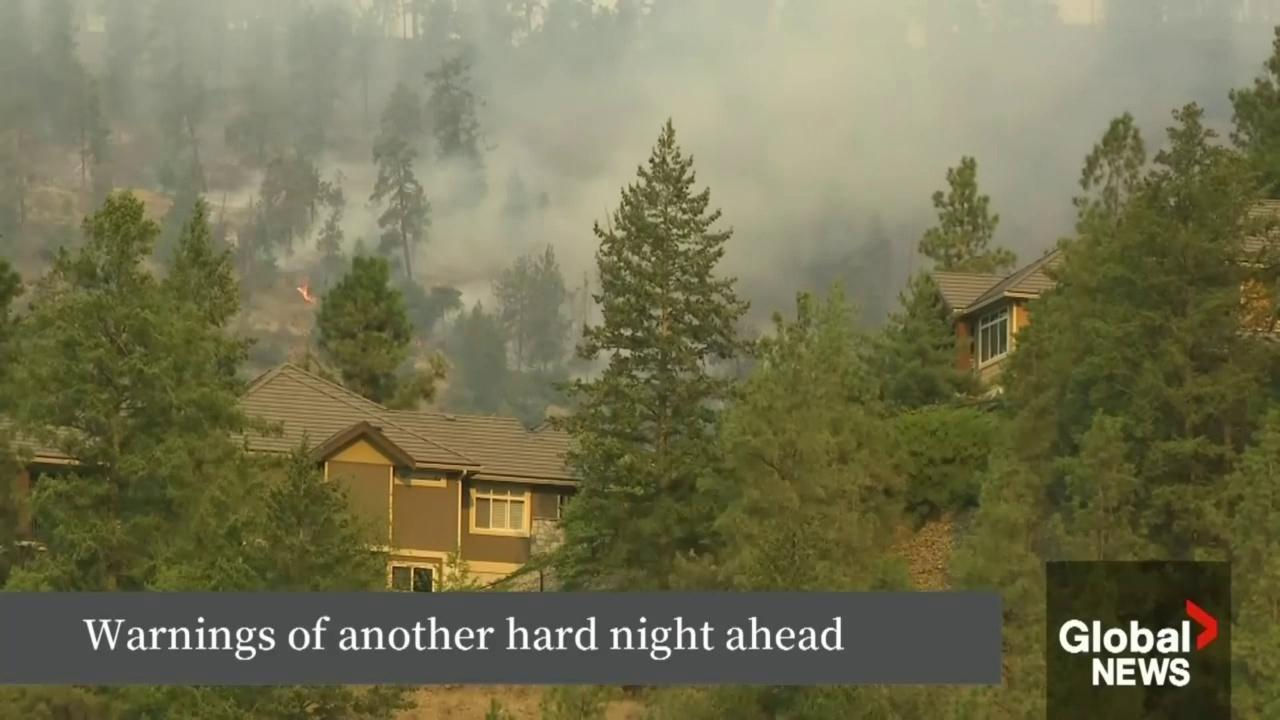fire: (289, 276, 321, 305)
smoke: (0, 0, 1280, 425)
